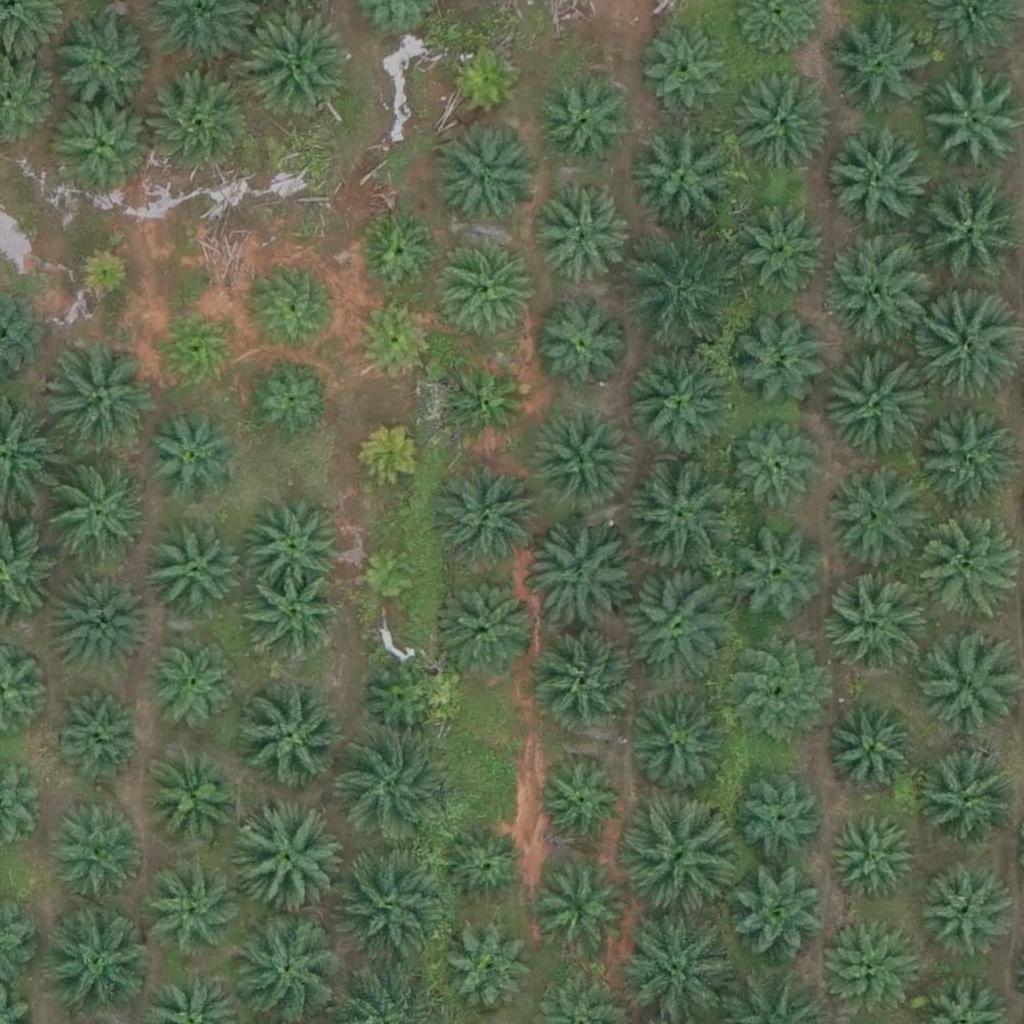Kelapa_Sawit: (623, 573, 736, 687), (430, 457, 543, 571), (337, 850, 450, 964), (234, 678, 347, 792), (905, 510, 1018, 623), (626, 455, 739, 568), (623, 792, 736, 905), (528, 523, 641, 636), (227, 806, 340, 919), (821, 238, 934, 351), (624, 119, 737, 232), (625, 242, 738, 355), (820, 360, 932, 474), (238, 9, 350, 123), (140, 66, 252, 180), (340, 729, 452, 842), (43, 341, 155, 454), (723, 866, 823, 967), (629, 693, 729, 794), (529, 410, 629, 511), (542, 633, 642, 734), (443, 574, 543, 675), (243, 494, 343, 595), (137, 407, 237, 508), (144, 523, 244, 624), (144, 747, 244, 848), (146, 864, 246, 965), (50, 463, 150, 564), (47, 796, 147, 897), (46, 915, 146, 1016), (921, 401, 1021, 502), (832, 12, 932, 113), (731, 309, 831, 410), (535, 68, 635, 169), (535, 178, 635, 279), (528, 301, 628, 402), (433, 130, 533, 231), (432, 238, 532, 339), (56, 11, 156, 112), (917, 639, 1017, 739), (919, 755, 1019, 855), (831, 575, 931, 675), (725, 415, 825, 515), (46, 578, 146, 678), (825, 127, 925, 227), (633, 352, 733, 452), (735, 195, 835, 295), (734, 71, 834, 171), (56, 97, 156, 197), (826, 473, 925, 574), (147, 645, 235, 734), (826, 701, 914, 789), (827, 814, 915, 902), (732, 658, 820, 746), (731, 528, 819, 616), (446, 930, 534, 1018), (360, 659, 448, 747), (252, 574, 340, 662), (52, 689, 140, 777), (443, 34, 531, 122), (251, 262, 339, 350), (251, 354, 339, 442), (349, 294, 437, 382), (357, 205, 445, 293), (639, 25, 727, 113), (538, 760, 625, 849), (923, 866, 1010, 954), (739, 773, 826, 861), (542, 875, 629, 963), (441, 827, 528, 915), (152, 304, 239, 392), (442, 354, 529, 442), (354, 416, 429, 492), (69, 245, 132, 308), (359, 545, 421, 608)
